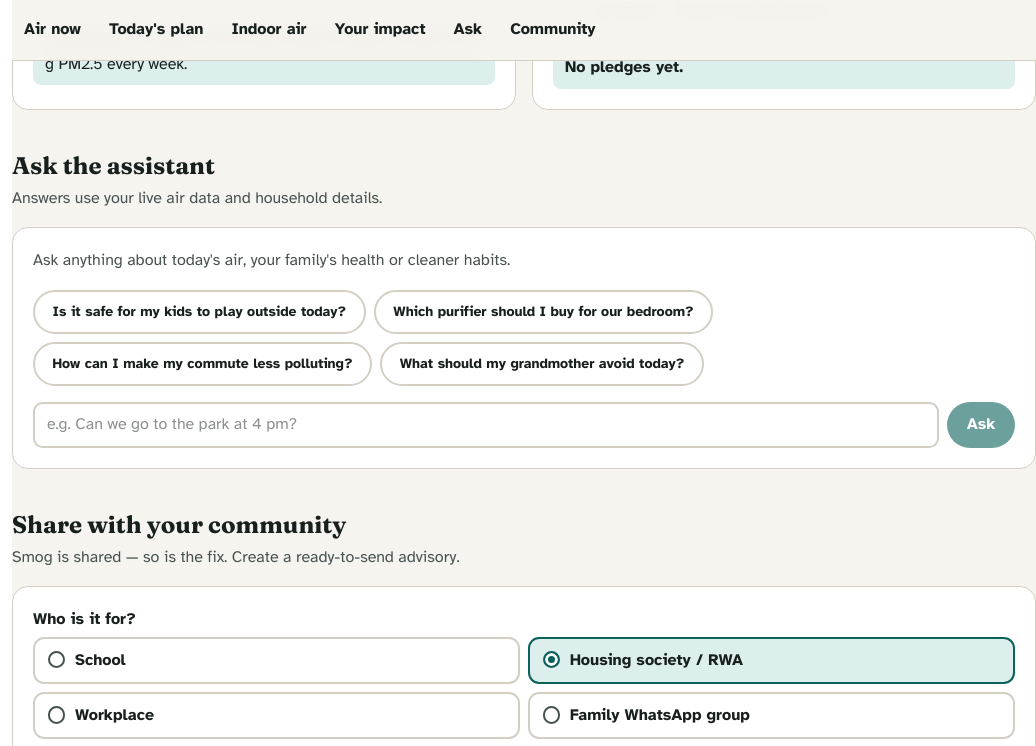
Scenario: AskAssistant (inside the dashboard) › treats an empty stream as a failure
(page scrolled)
Type "Hi" into the field named "Your question" at point(486, 425), box [33, 402, 939, 448]
Then press Enter
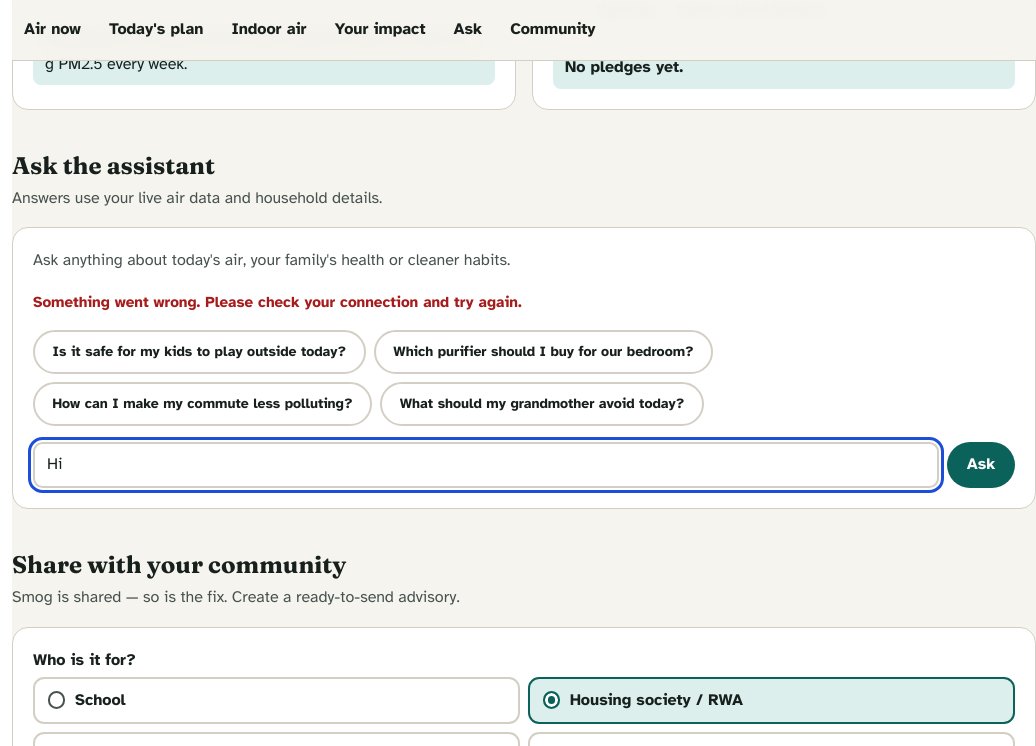
expect the message shows "try again": met, box [33, 293, 522, 311]
